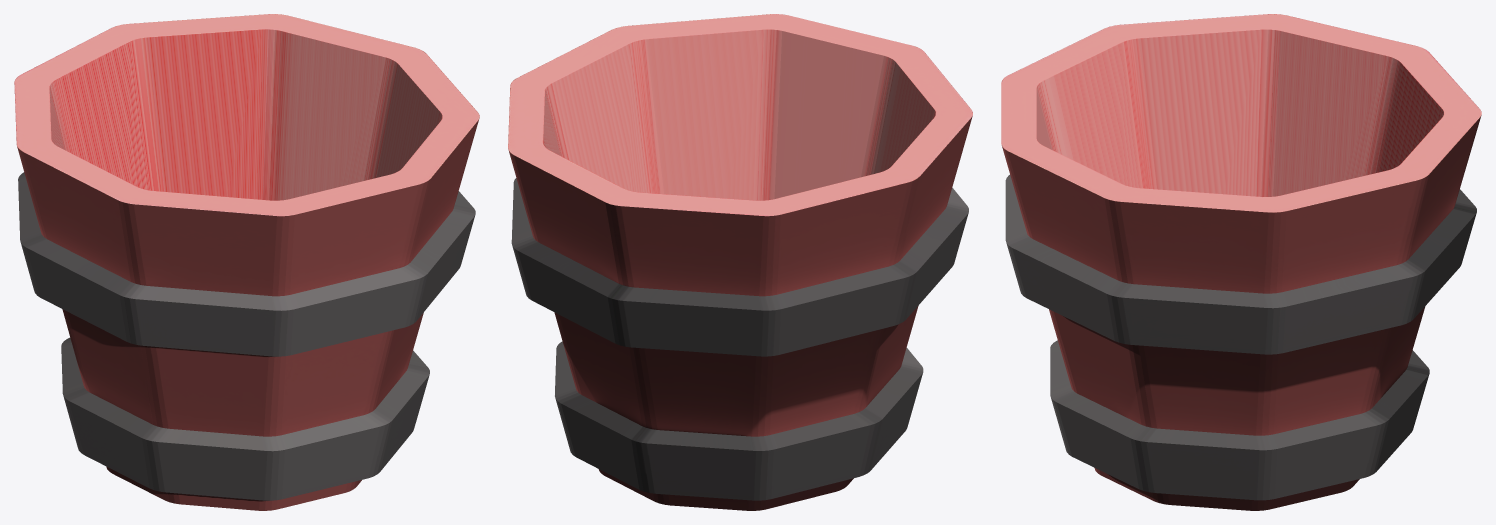
Rendered from Bucket.glb.
3 views of the same model, side by side, from view 1: azimuth 30°, elevation 25°; view 2: azimuth 150°, elevation 25°; view 3: azimuth 270°, elevation 25° (orthographic).
Parts seen in each view (by area): view 1: Cylinder; view 2: Cylinder; view 3: Cylinder.
Boxes of the visible parts, x1,y1,x2,y2 form: Cylinder: (14, 14, 479, 510); Cylinder: (508, 14, 972, 510); Cylinder: (1001, 14, 1481, 510).
Size of the model in its own units: 0.6817 by 0.5412 by 0.6965.
2 materials, 2 textured.
